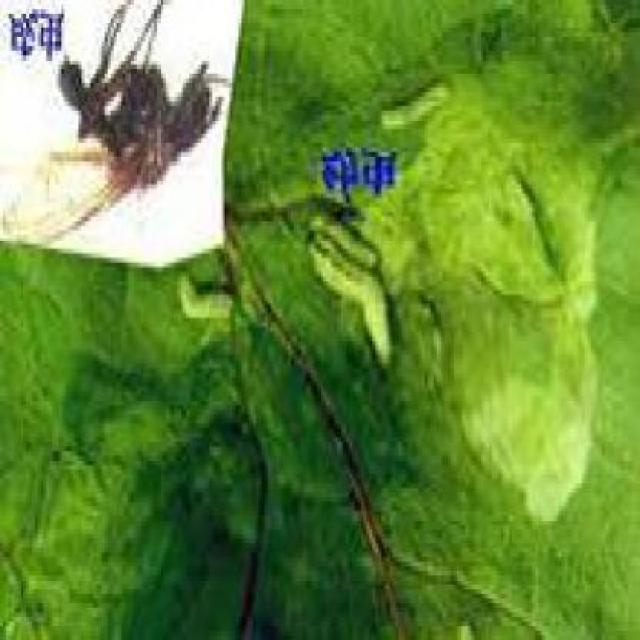whorl-maggot: (307, 198, 398, 370), (164, 264, 245, 336), (375, 69, 463, 134)
